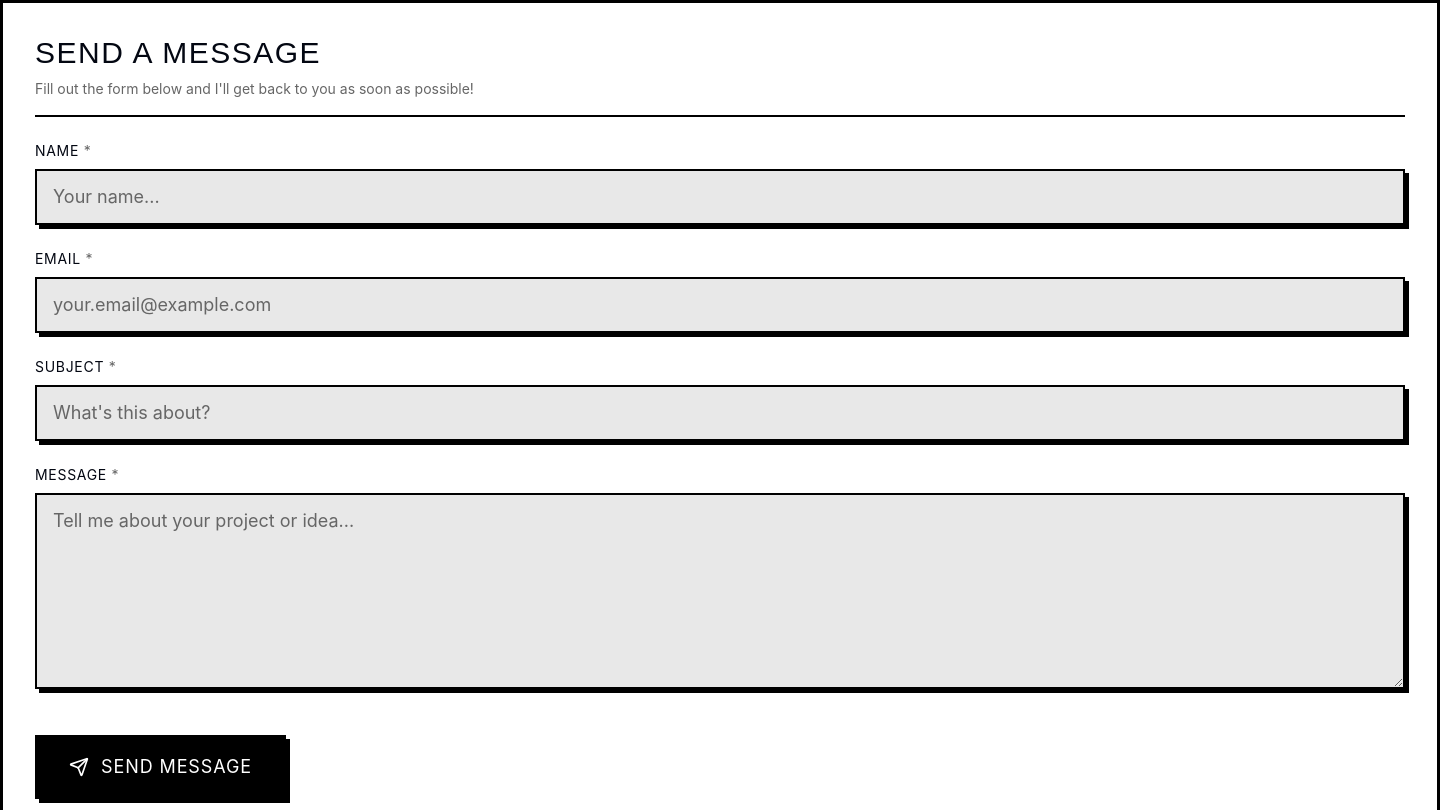
Test: ContactForm › Form Submission › displays success message after successful submission
The width and height of the screenshot is (1440, 810).
Type "John Doe" into the field labelled "Name *".
click(720, 197); type("John Doe")  # box x1=35 y1=169 x2=1405 y2=225
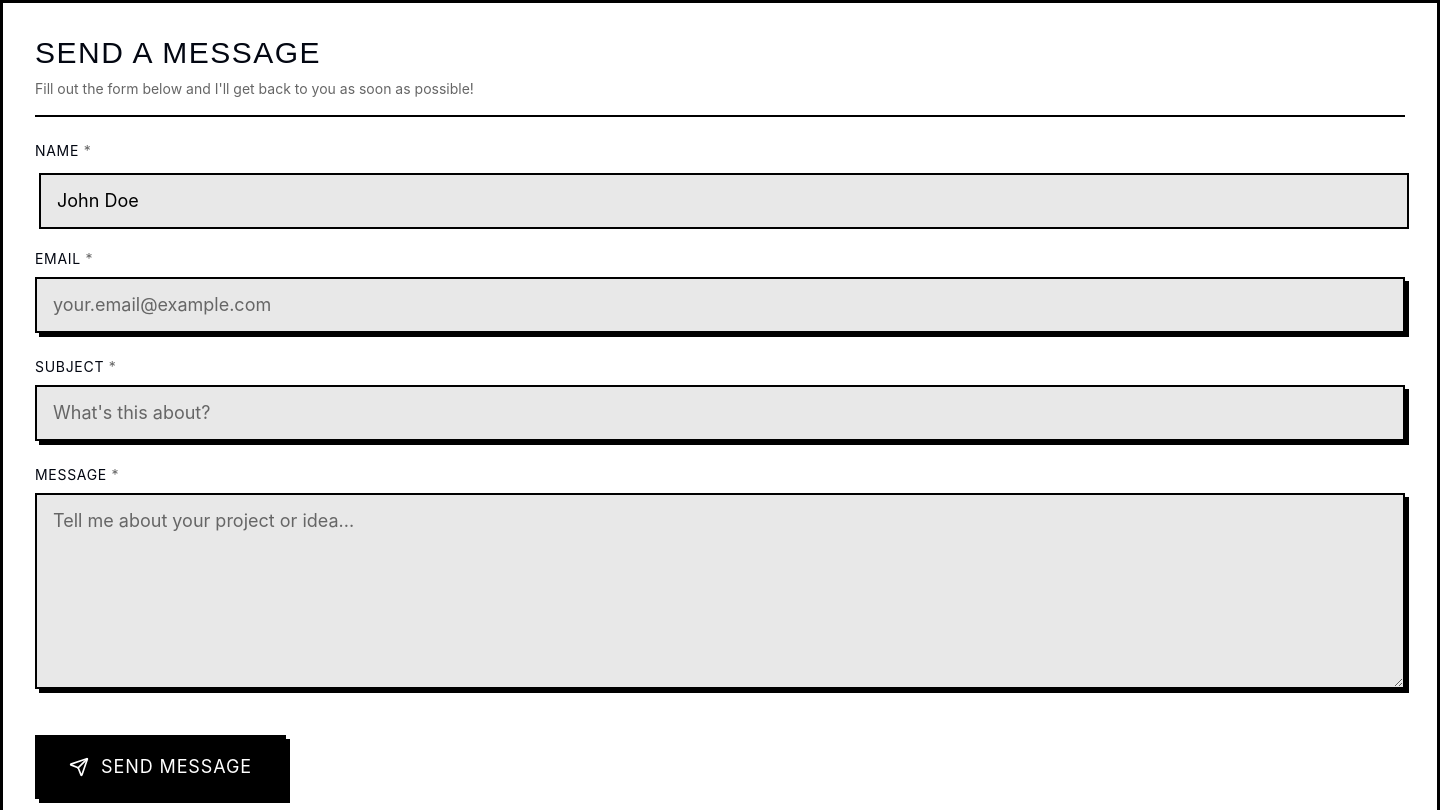
Type "john@example.com" into the field labelled "Email *".
click(720, 305); type("john@example.com")  # box x1=35 y1=277 x2=1405 y2=333
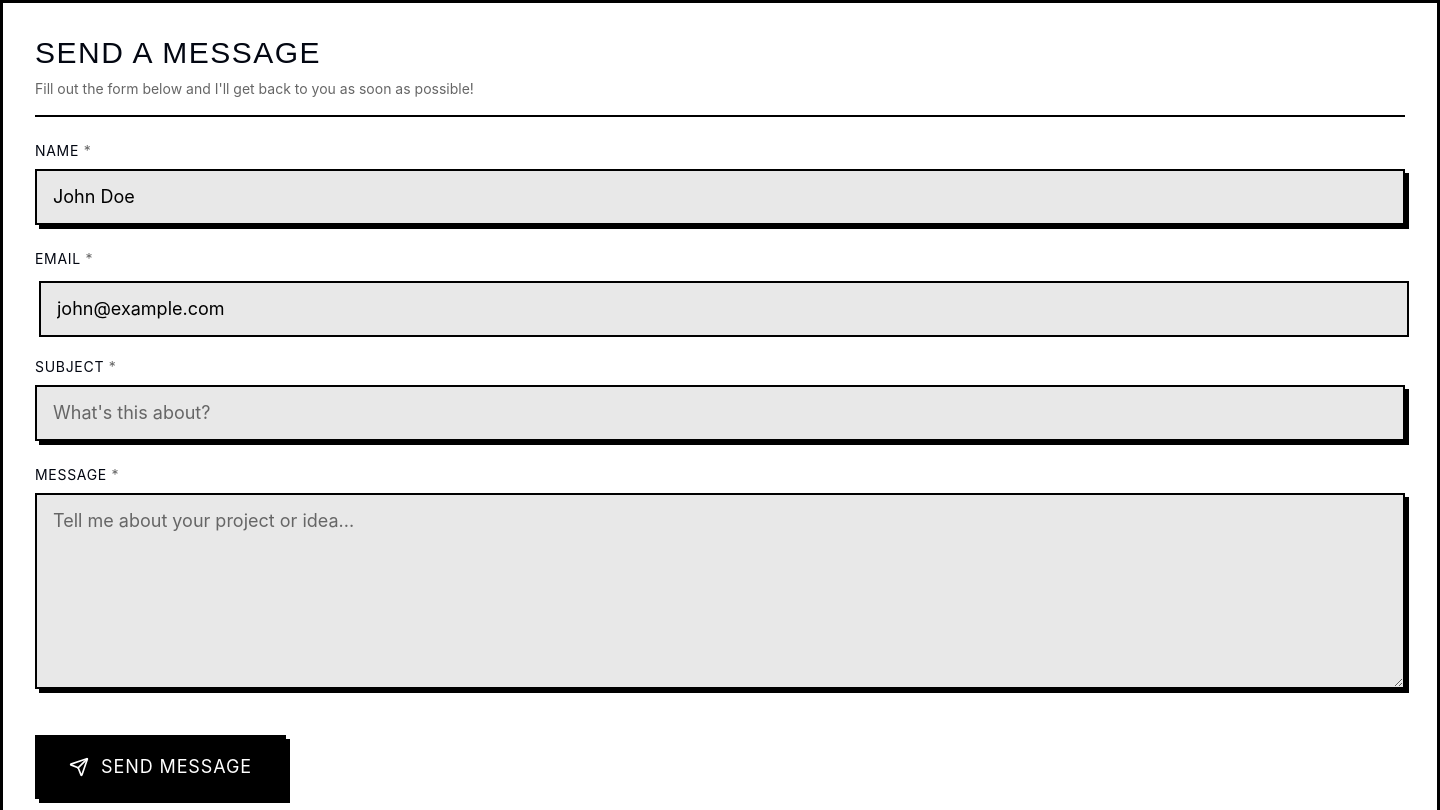
Type "Project Inquiry" into the field labelled "Subject *".
click(720, 413); type("Project Inquiry")  # box x1=35 y1=385 x2=1405 y2=441
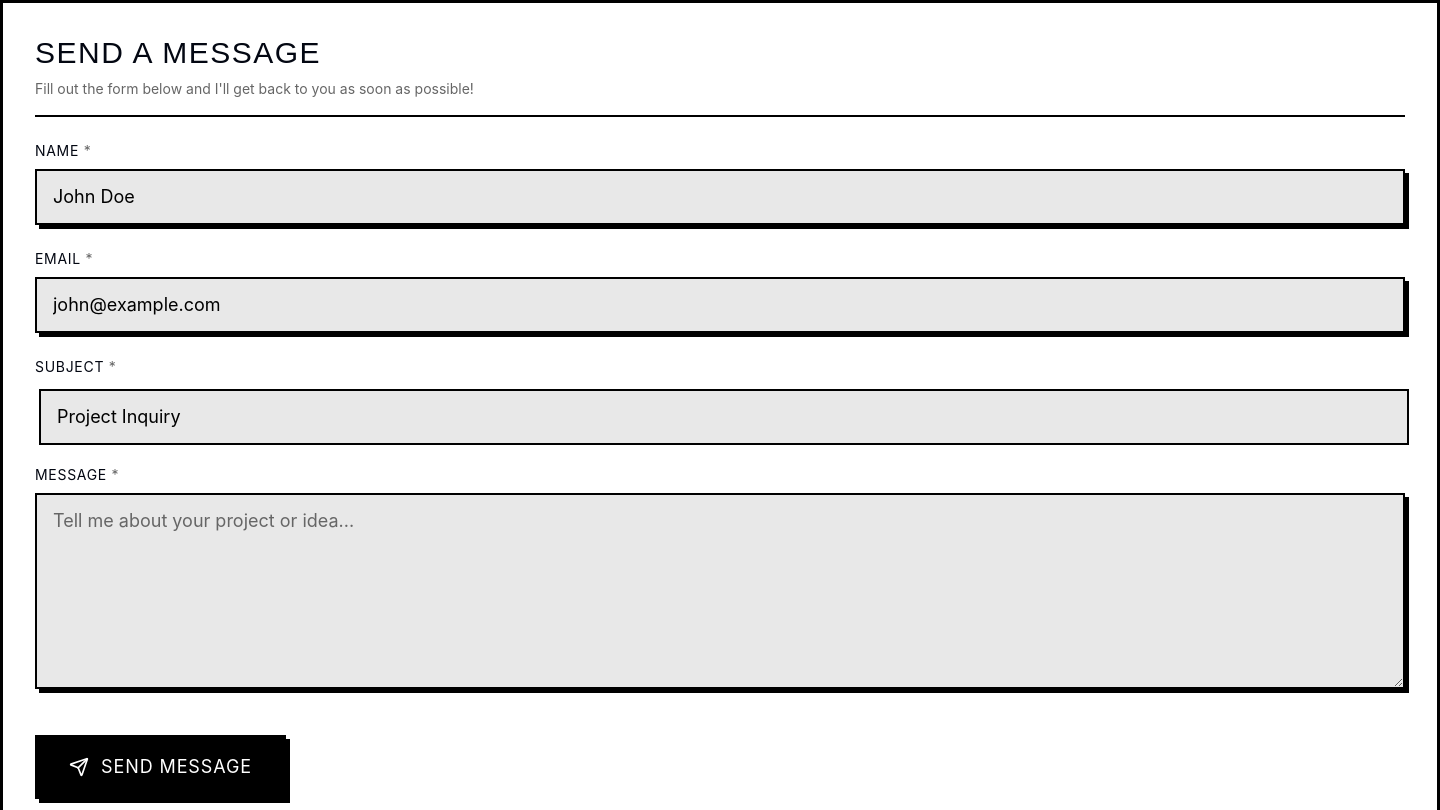
Type "I would like to discuss a project." into the text box labelled "Message *".
click(720, 591); type("I would like to discuss a project.")  # box x1=35 y1=493 x2=1405 y2=689
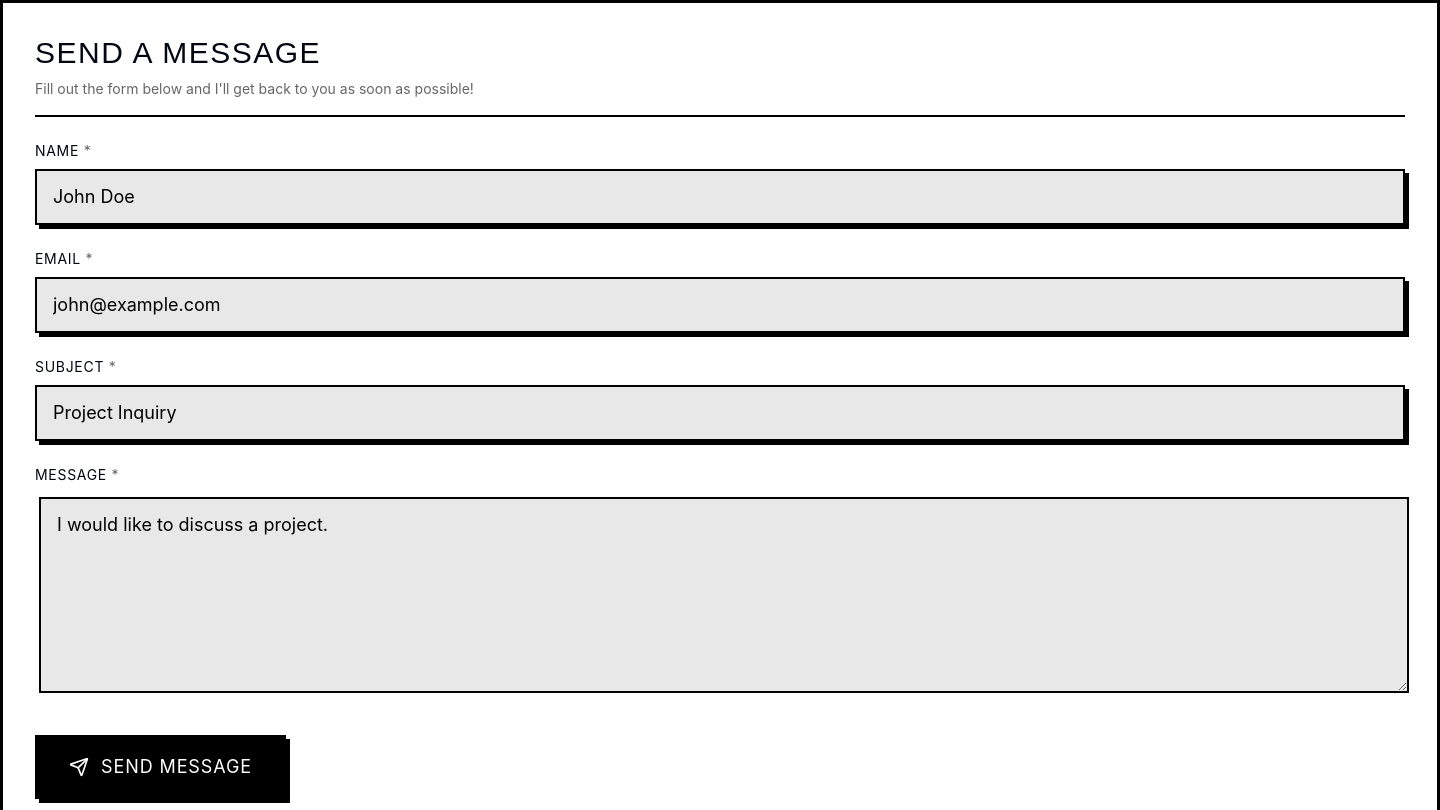
Click the button "Send Message".
click(160, 767)  # box x1=35 y1=735 x2=286 y2=799
(page scrolled)
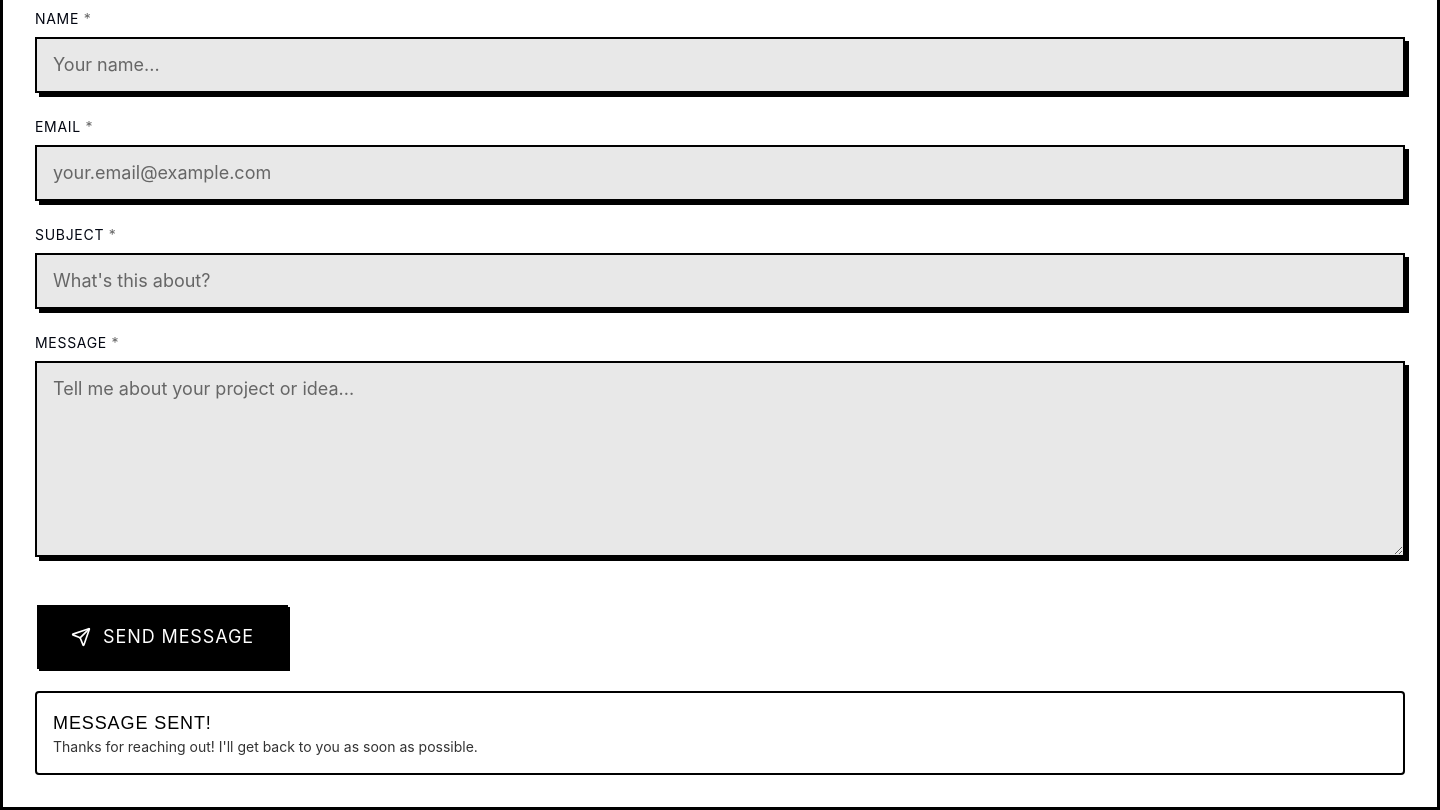
Result: the heading "Message Sent!" is shown at x1=53 y1=713 x2=212 y2=733
Result: the text "Thanks for reaching out" is shown at x1=53 y1=738 x2=478 y2=755
